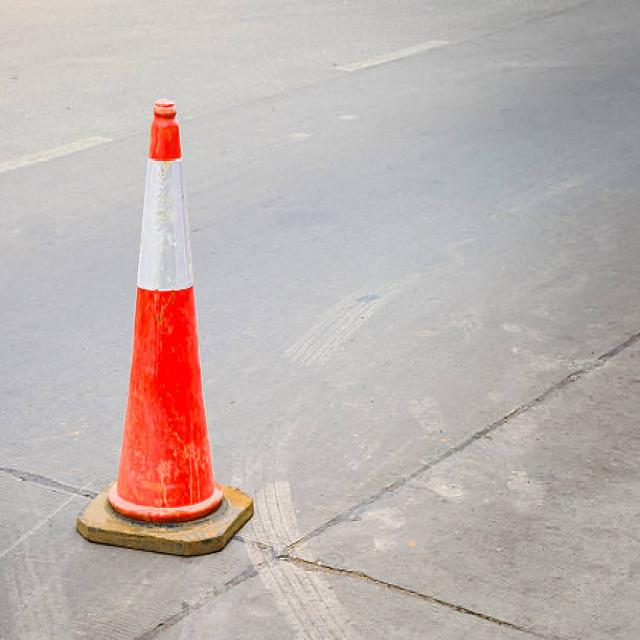Traffic Cone: (64, 75, 271, 582)
